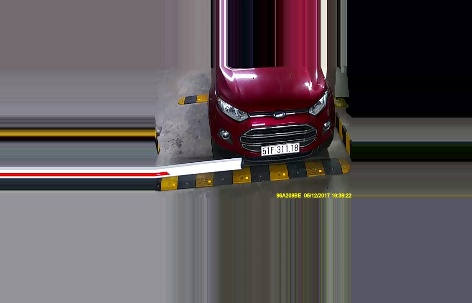plate: (260, 140, 298, 155)
